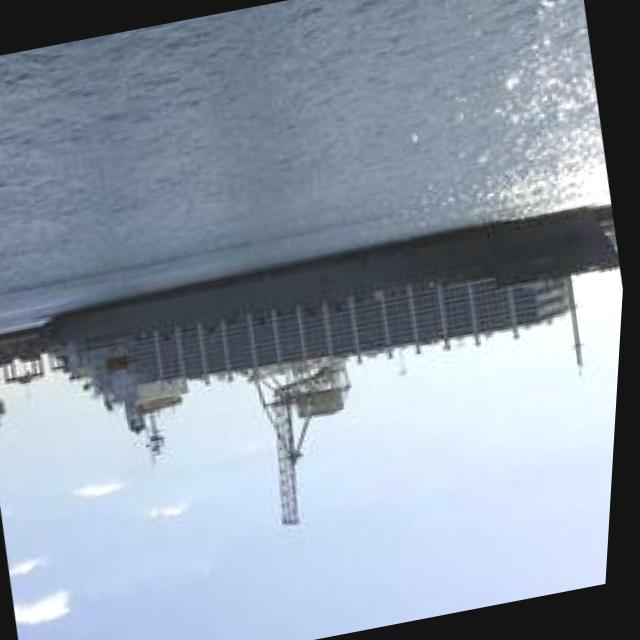ship2: (42, 204, 623, 463)
